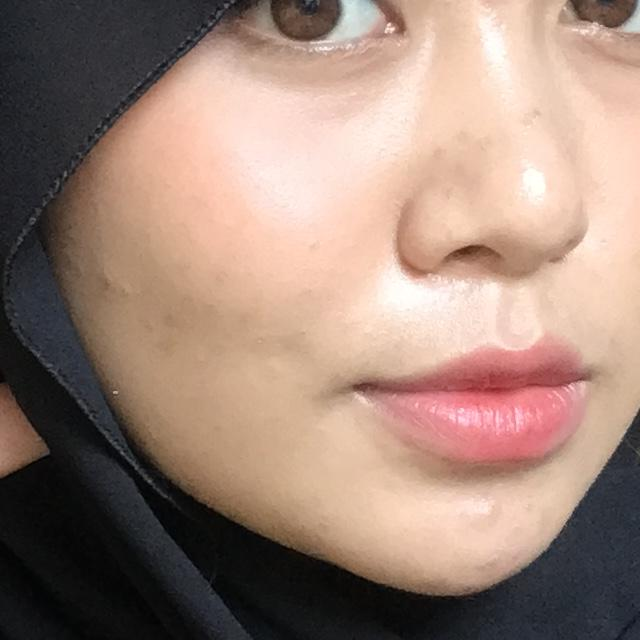mendengar: (0, 0, 355, 640)
